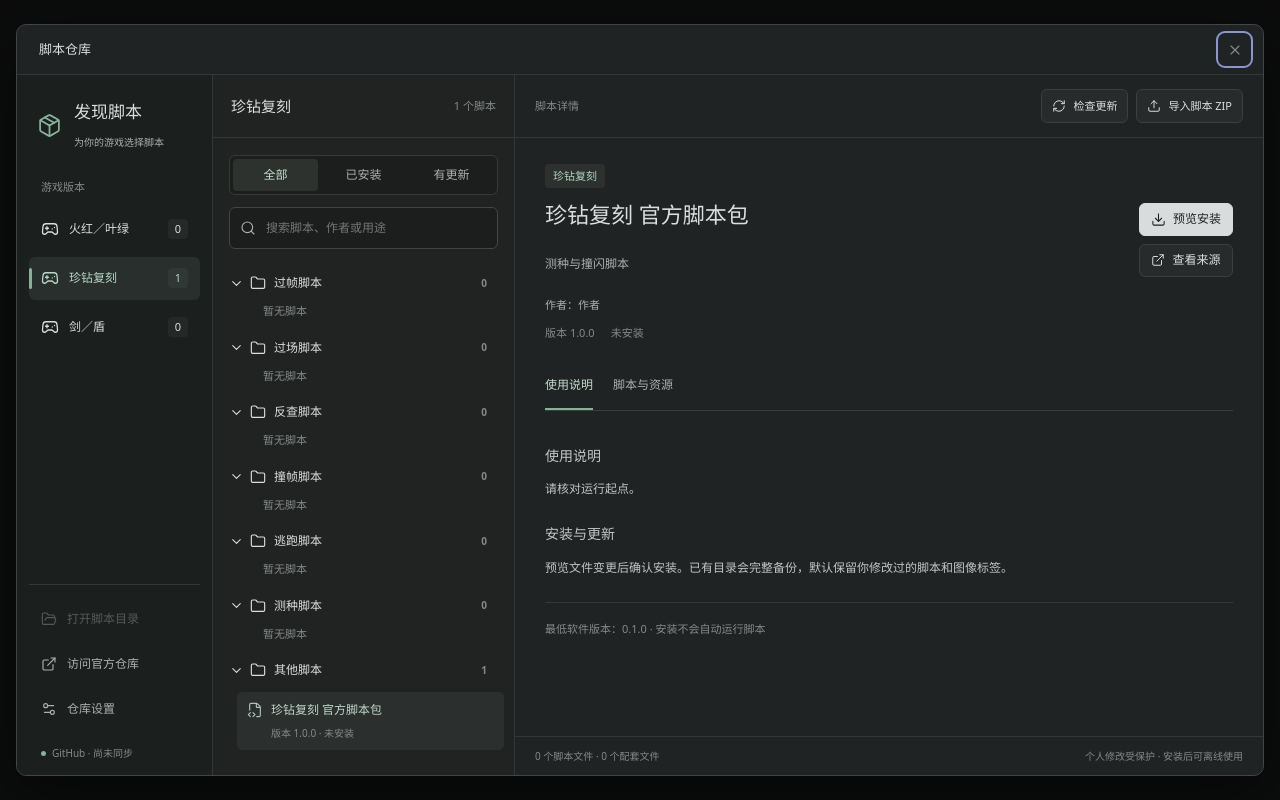
initial index fetch and update failures leave existing cached details visible
Click the button "检查更新". click: (1085, 106)
box: [1042,89,1128,123]
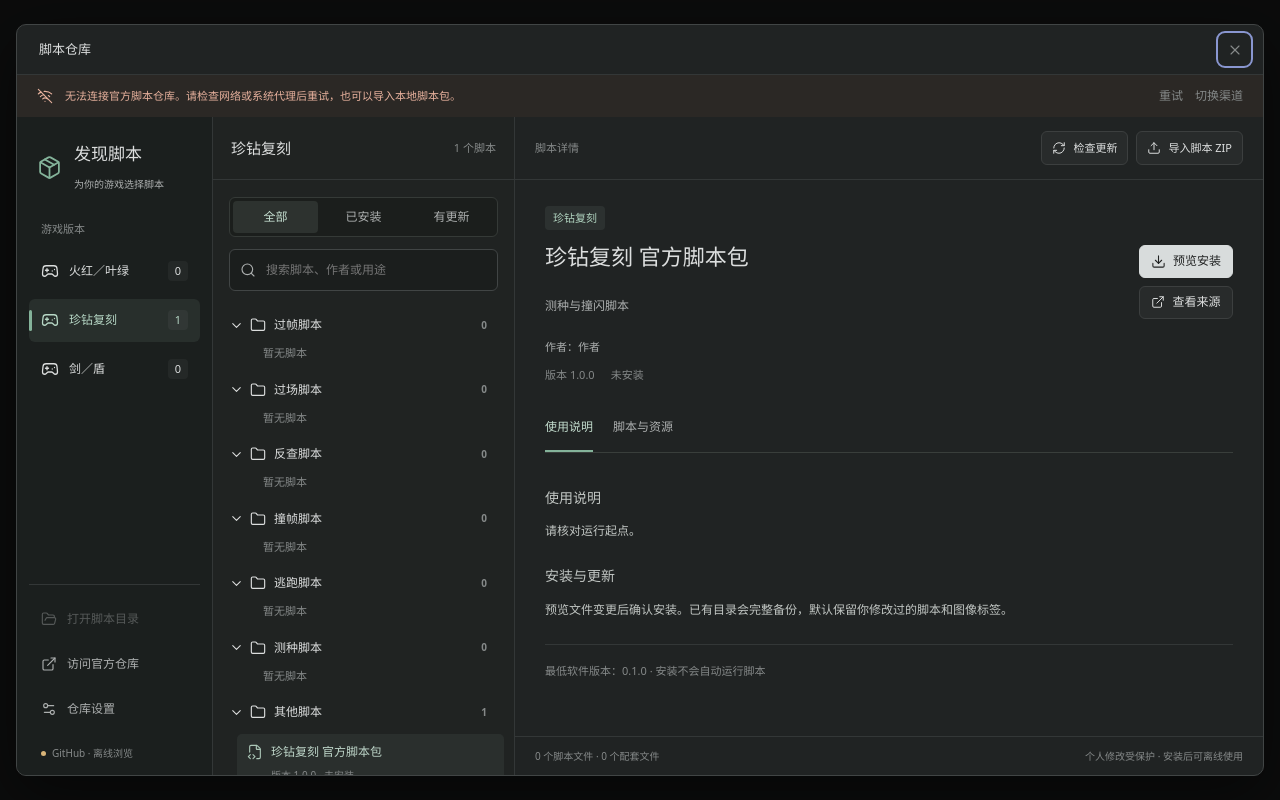
Expected: the text "请核对运行起点。" is shown, [545,522,641,539]
Now the message shows "无法连接官方脚本仓库", box [65,88,461,103]
